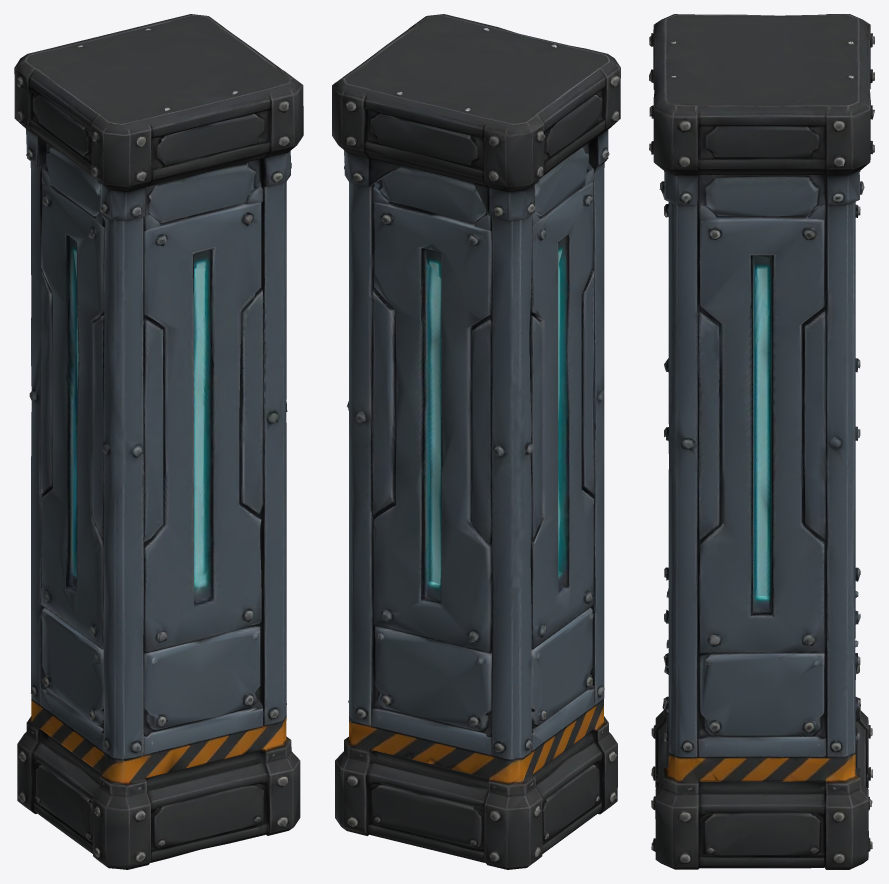
The model's file is pillar.glb.
The picture shows the model from 3 angles, left to right: view 1: azimuth 30°, elevation 25°; view 2: azimuth 150°, elevation 25°; view 3: azimuth 270°, elevation 25°; orthographic projection. The views are drawn at different scales.
Parts seen in each view (by area): view 1: tripo_node_9b829d16-f4a4-4c7f-8cae-da5db6cf5797; view 2: tripo_node_9b829d16-f4a4-4c7f-8cae-da5db6cf5797; view 3: tripo_node_9b829d16-f4a4-4c7f-8cae-da5db6cf5797.
Boxes of the visible parts, box(x1,y1,x2,y2) form: tripo_node_9b829d16-f4a4-4c7f-8cae-da5db6cf5797: box(14, 14, 303, 869); tripo_node_9b829d16-f4a4-4c7f-8cae-da5db6cf5797: box(332, 14, 620, 869); tripo_node_9b829d16-f4a4-4c7f-8cae-da5db6cf5797: box(649, 14, 874, 869).
Size of the model in its own units: 0.284 by 0.9793 by 0.2622.
1 material, 1 textured.
